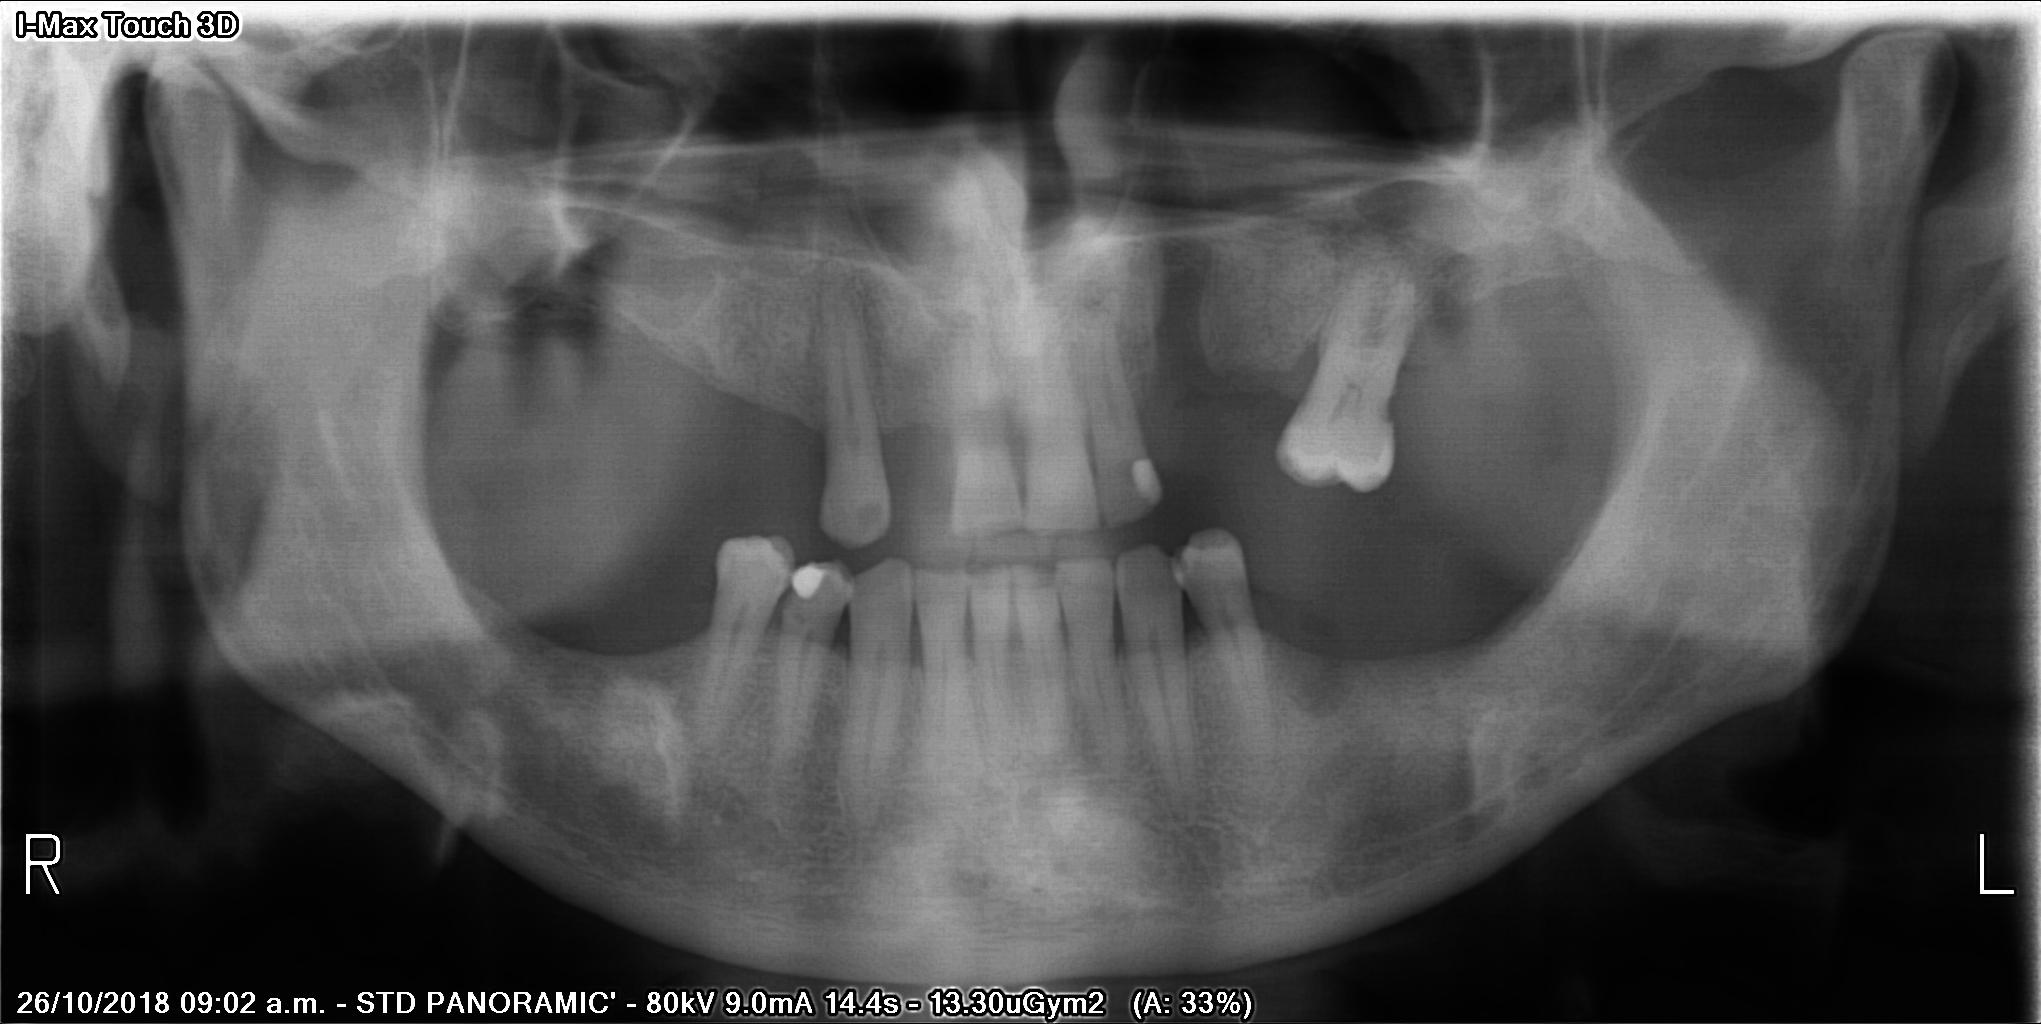Çürük: (795, 555, 833, 600), (1137, 457, 1170, 508)
Çürük Bölgesi: (1119, 440, 1149, 483), (780, 581, 803, 611)
